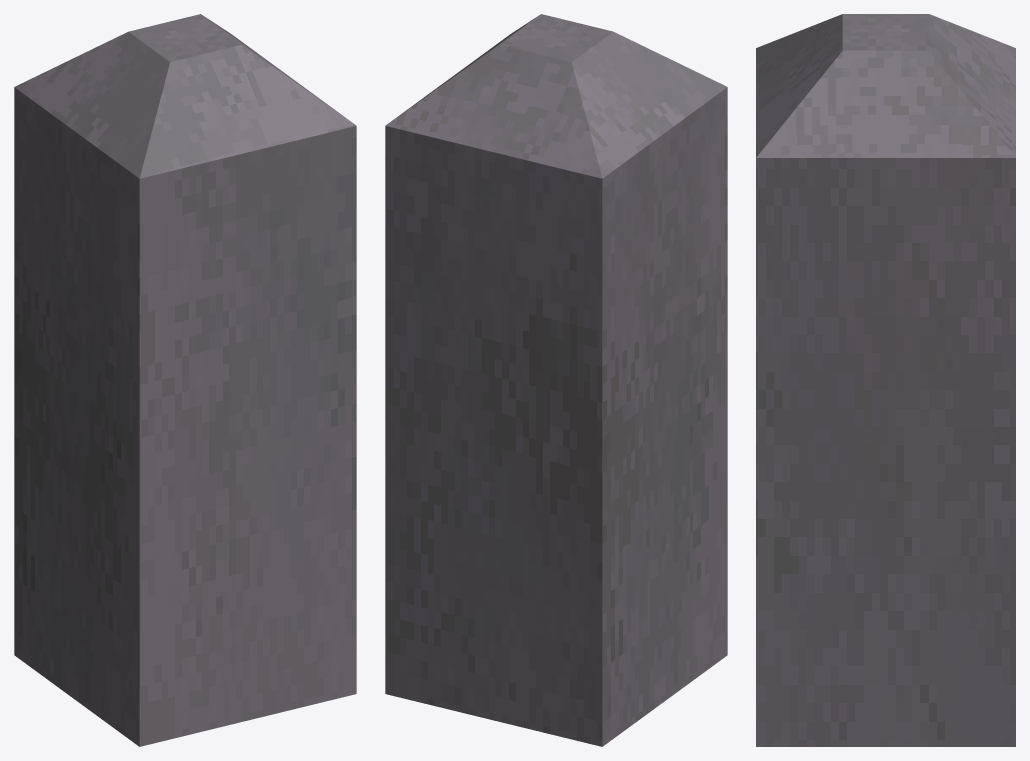
File: CementPole.glb
The picture shows the model from 3 angles, left to right: view 1: azimuth 30°, elevation 25°; view 2: azimuth 150°, elevation 25°; view 3: azimuth 270°, elevation 25°; orthographic projection. The views are drawn at different scales.
Parts seen in each view (by area): view 1: Cube; view 2: Cube; view 3: Cube.
Part boxes in pixels (<box>): Cube: <box>14,14,356,746</box>; Cube: <box>385,14,727,746</box>; Cube: <box>756,14,1015,746</box>.
Size of the model in its own units: 1.6 by 4.48 by 1.6.
Materials: 1 (1 with a texture image).
